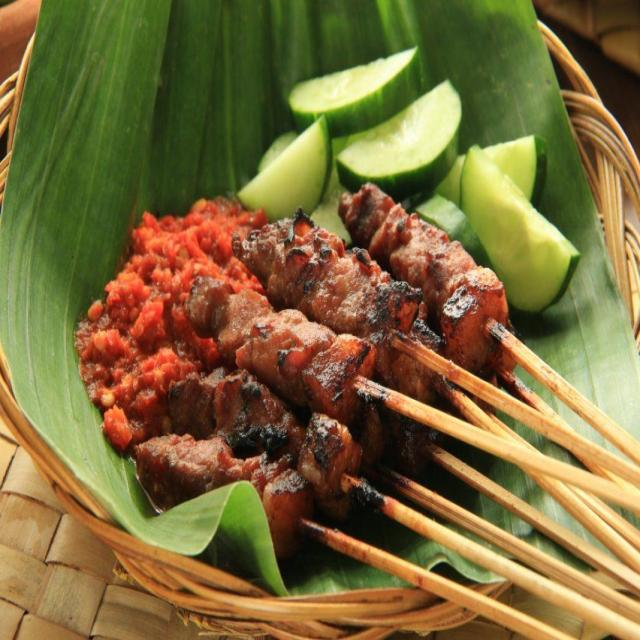Sate: (122, 213, 634, 630)
